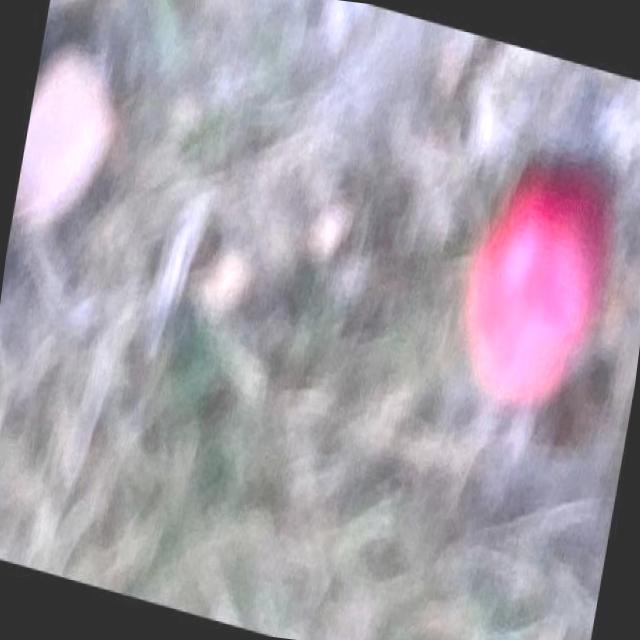Apple: (456, 139, 624, 415)
